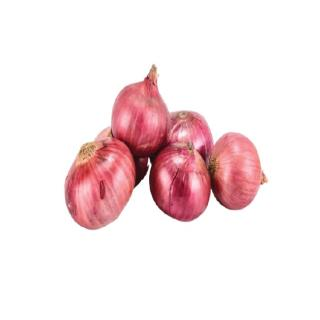Bawang Merah: (65, 64, 269, 230), (65, 137, 137, 231), (111, 64, 172, 159), (150, 142, 212, 223), (209, 132, 269, 211)
